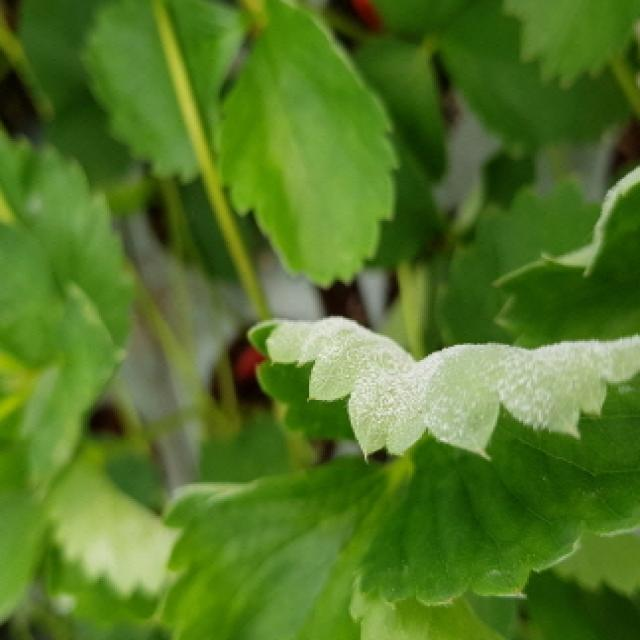Powdery Mildew Leaf: (245, 315, 640, 607)
